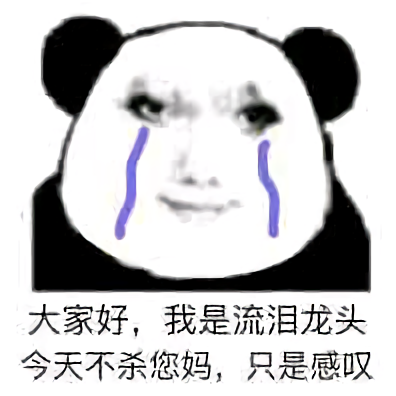dragon: (120, 80, 283, 232)
